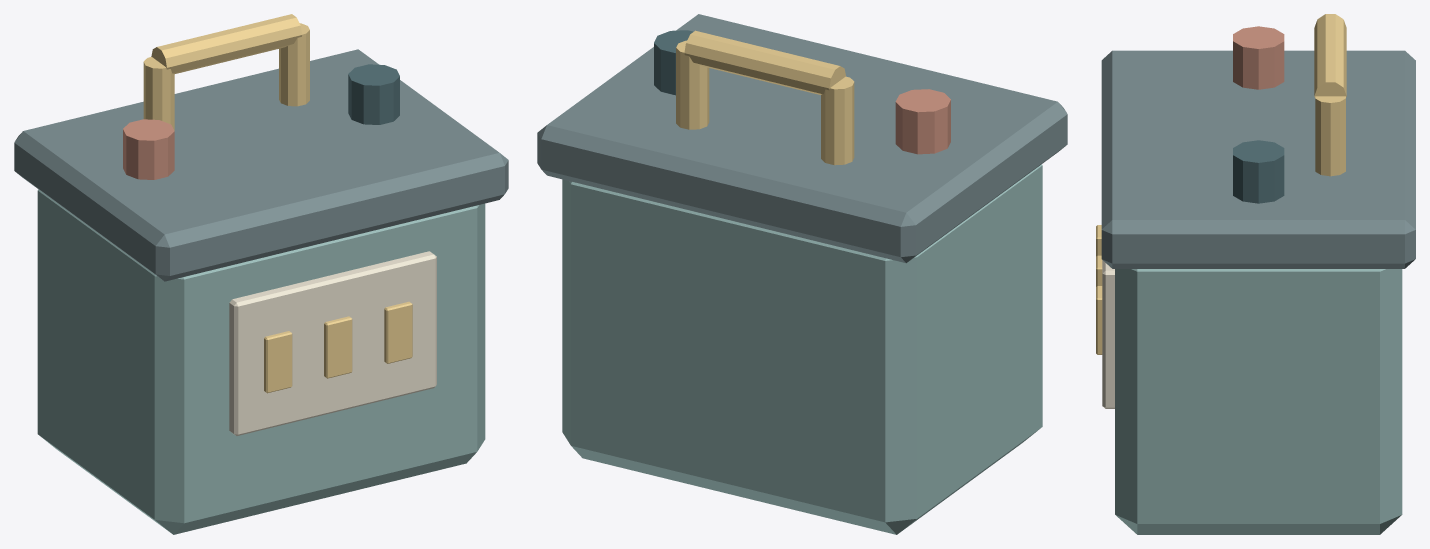
Rendered from battery_pack.glb.
3 views of the same model, side by side, from view 1: azimuth 30°, elevation 25°; view 2: azimuth 150°, elevation 25°; view 3: azimuth 270°, elevation 25° (orthographic). The views are drawn at different scales.
Parts seen in each view (by area): view 1: battery_pack; view 2: battery_pack; view 3: battery_pack.
Part boxes in pixels (<box>): battery_pack: <box>14,14,508,534</box>; battery_pack: <box>537,14,1067,534</box>; battery_pack: <box>1096,14,1415,534</box>.
Size of the model in its own units: 0.47 by 0.5071 by 0.356.
